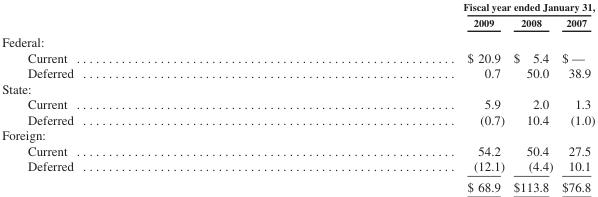table: (1, 0, 594, 193)
table column: (1, 0, 267, 193), (267, 0, 508, 193), (508, 0, 556, 193), (556, 0, 594, 193)
table column header: (1, 0, 594, 31)
table projected row header: (1, 31, 594, 49), (1, 80, 594, 96), (1, 127, 594, 142)
table row: (1, 31, 594, 49), (1, 158, 594, 176), (1, 14, 594, 31), (1, 176, 594, 193), (1, 49, 594, 65), (1, 80, 594, 96), (1, 111, 594, 127), (1, 142, 594, 158), (1, 65, 594, 80), (1, 96, 594, 111), (1, 127, 594, 142), (1, 0, 594, 14)
table spanning cell: (267, 0, 594, 14)
